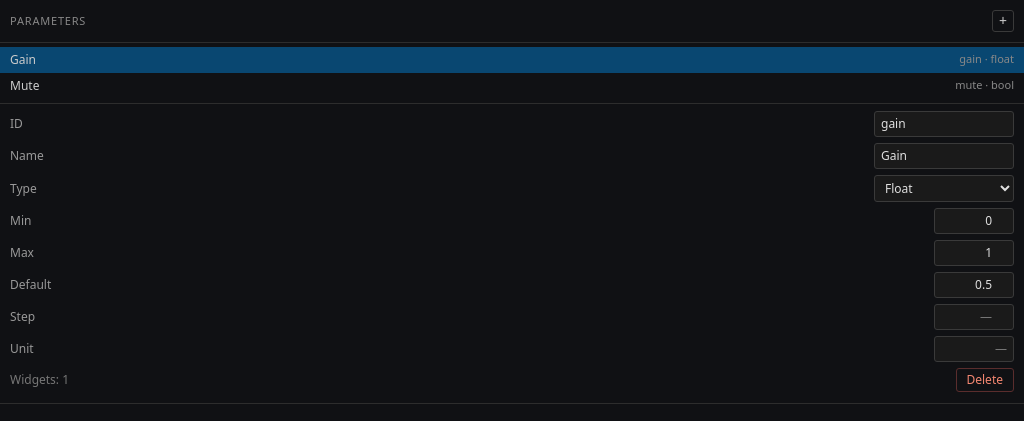
Test: ParametersPanel › changes the type with type-specific fields
Select "Choice" in the dropdown at (944, 188), box [874,175,1014,202]
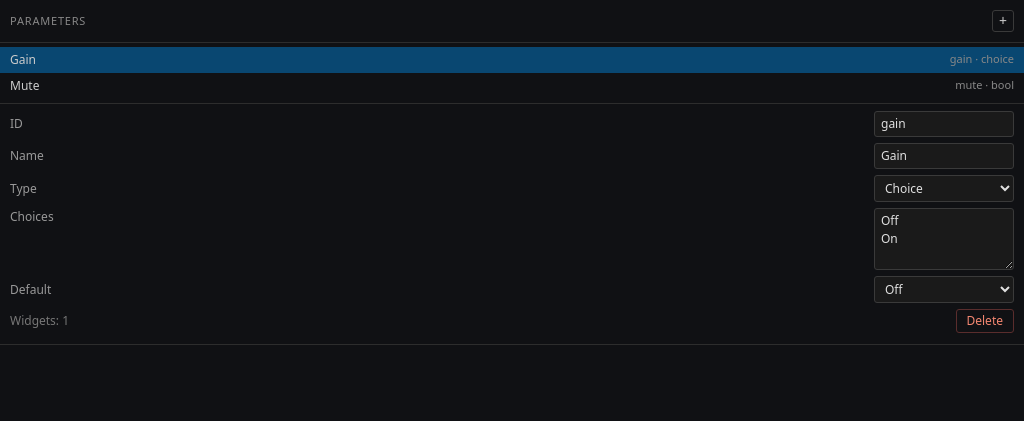
Check: the text box is shown, box [874,208,1014,270]
